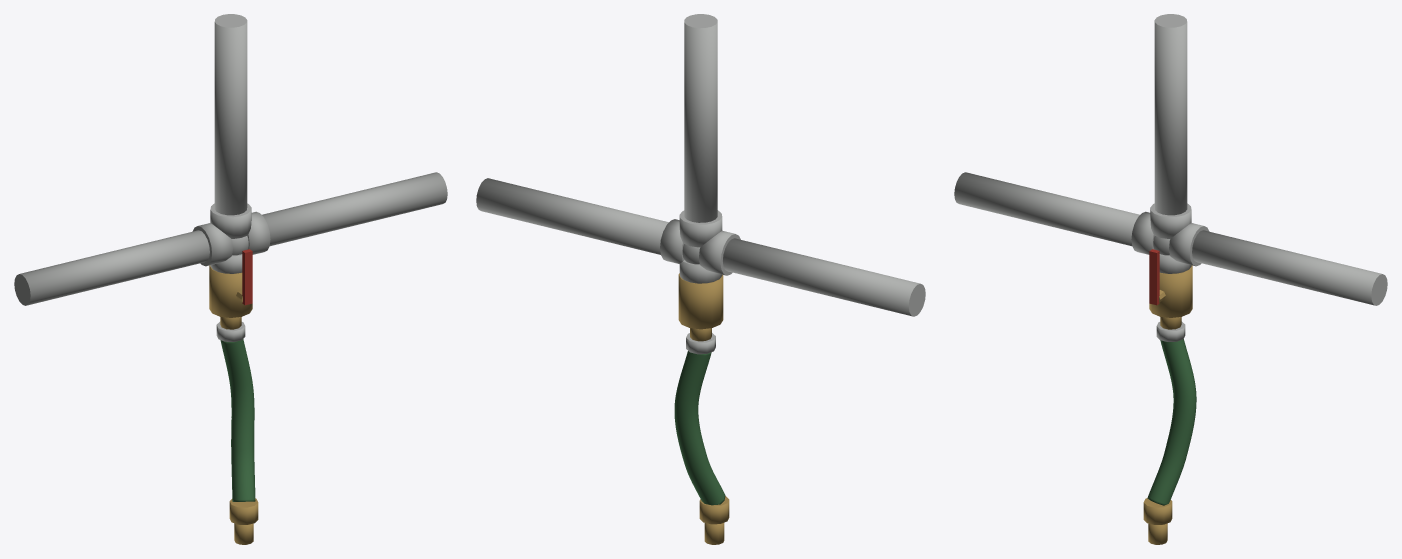
File: barrel_pump_cross.obj
3 renders of one model, left to right at view 1: azimuth 30°, elevation 25°; view 2: azimuth 150°, elevation 25°; view 3: azimuth 330°, elevation 25°, orthographic. The views are drawn at different scales.
Visible parts, largest first — view 1: pipe4, pipe8, pipe2, hose, valve_body, elbow_socket8, elbow_socket4, elbow_socket2, spigot_nut, valve_lever; view 2: pipe8, pipe4, pipe2, hose, valve_body, elbow_socket4, elbow_socket8, elbow_socket2, elbow_socket1, spigot_nut; view 3: pipe4, pipe2, pipe8, hose, valve_body, elbow_socket2, elbow_socket4, elbow_socket8, spigot_nut, valve_lever.
Part boxes in pixels (x1,y1,x2,y2): pipe4: [214, 14, 247, 215]; pipe8: [14, 230, 209, 305]; pipe2: [262, 172, 447, 246]; hose: [220, 339, 255, 501]; valve_body: [209, 265, 252, 317]; elbow_socket8: [192, 223, 232, 266]; elbow_socket4: [210, 203, 251, 238]; elbow_socket2: [247, 211, 270, 254]; spigot_nut: [229, 498, 258, 524]; valve_lever: [242, 249, 252, 305]; pipe8: [723, 238, 925, 316]; pipe4: [684, 14, 717, 222]; pipe2: [476, 178, 668, 254]; hose: [674, 351, 725, 505]; valve_body: [678, 273, 723, 329]; elbow_socket4: [679, 210, 722, 247]; elbow_socket8: [699, 230, 740, 275]; elbow_socket2: [660, 219, 684, 263]; elbow_socket1: [679, 260, 722, 283]; spigot_nut: [699, 496, 729, 524]; pipe4: [1154, 14, 1187, 215]; pipe2: [1192, 230, 1387, 305]; pipe8: [954, 172, 1139, 246]; hose: [1147, 339, 1196, 505]; valve_body: [1149, 265, 1192, 317]; elbow_socket2: [1169, 223, 1209, 266]; elbow_socket4: [1150, 203, 1191, 238]; elbow_socket8: [1131, 211, 1154, 254]; spigot_nut: [1143, 498, 1172, 524]; valve_lever: [1149, 249, 1159, 305].
Size of the model in its own units: 1 by 1.17 by 0.1275.
4 materials, 4 textured.
